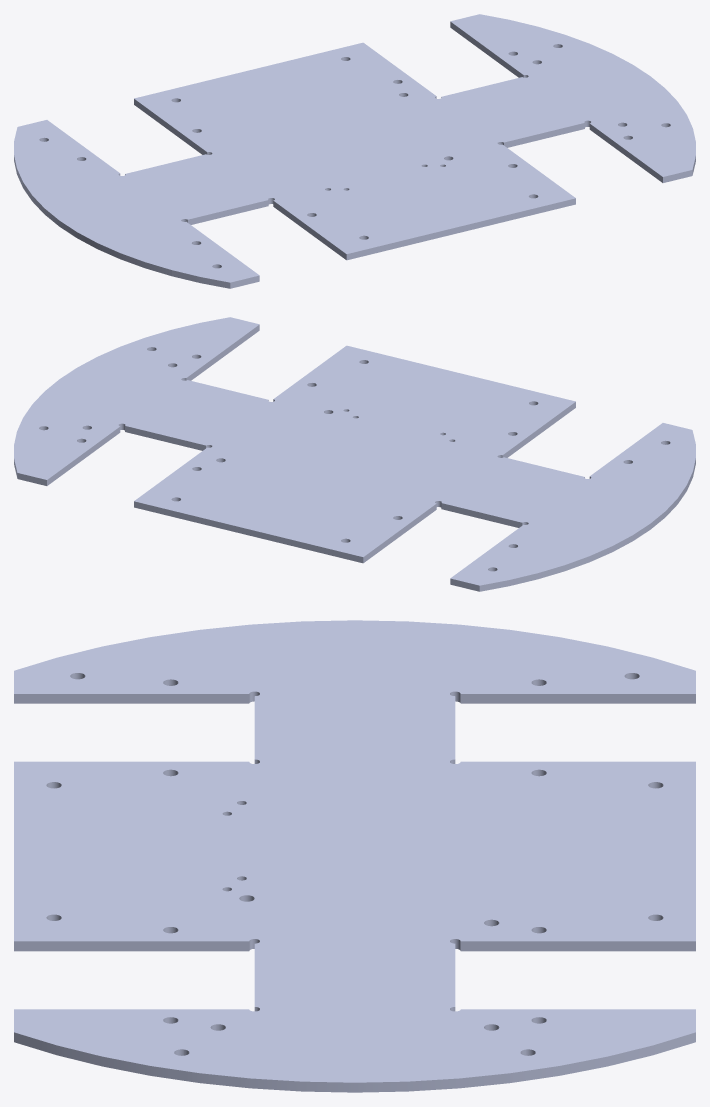
3 views of the same model, one above another, from view 1: azimuth 30°, elevation 25°; view 2: azimuth 150°, elevation 25°; view 3: azimuth 270°, elevation 25° (orthographic). The views are drawn at different scales.
Parts seen in each view (by area): view 1: node0; view 2: node0; view 3: node0.
Boxes of the visible parts, bbox=[...] form: node0: bbox=[14, 14, 695, 288]; node0: bbox=[14, 317, 695, 591]; node0: bbox=[14, 620, 695, 1092].
Bounding box in the file's own units: 0.3 × 0.003 × 0.187.
